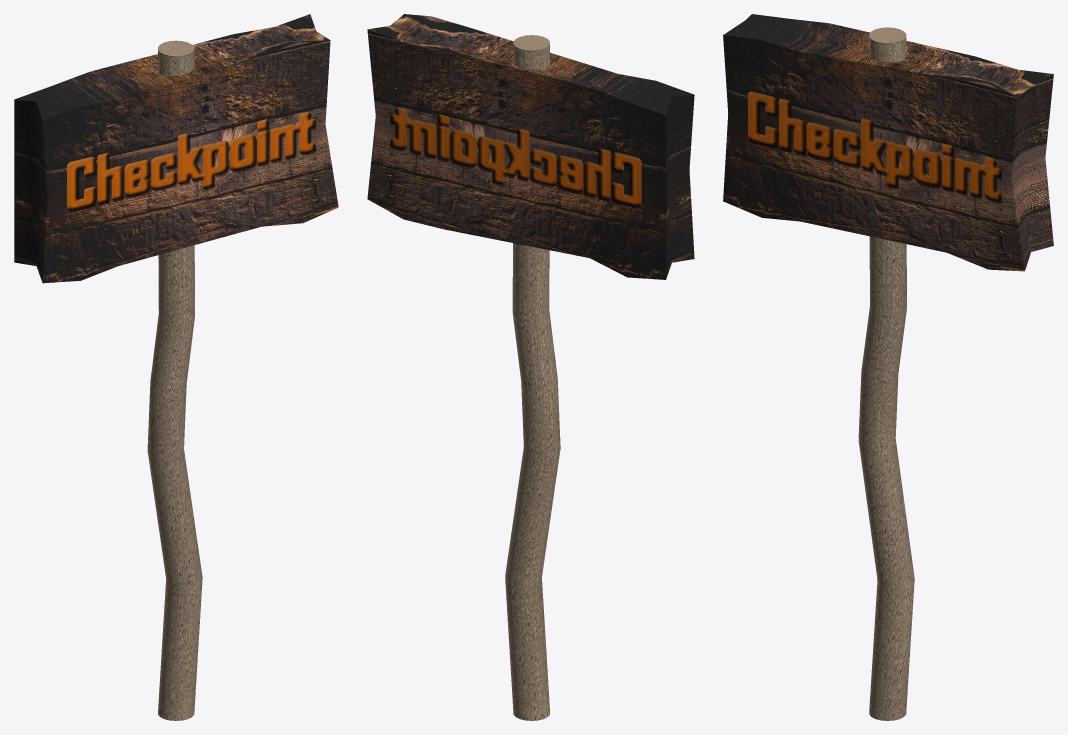
The model's file is checkpoint.FBX.
The picture shows the model from 3 angles, left to right: view 1: azimuth 30°, elevation 25°; view 2: azimuth 150°, elevation 25°; view 3: azimuth 330°, elevation 25°; orthographic projection.
Parts seen in each view (by area): view 1: Box001, Cylinder001; view 2: Box001, Cylinder001; view 3: Box001, Cylinder001.
Boxes of the visible parts, x1=… form: Box001: x1=14, y1=14, x2=338, y2=283; Cylinder001: x1=147, y1=40, x2=202, y2=720; Box001: x1=367, y1=14, x2=694, y2=279; Cylinder001: x1=505, y1=35, x2=560, y2=720; Box001: x1=723, y1=14, x2=1053, y2=271; Cylinder001: x1=858, y1=27, x2=914, y2=720.
Bounding box in the file's own units: 82.71 × 177 × 13.73.
Materials: 2 (2 with a texture image).
